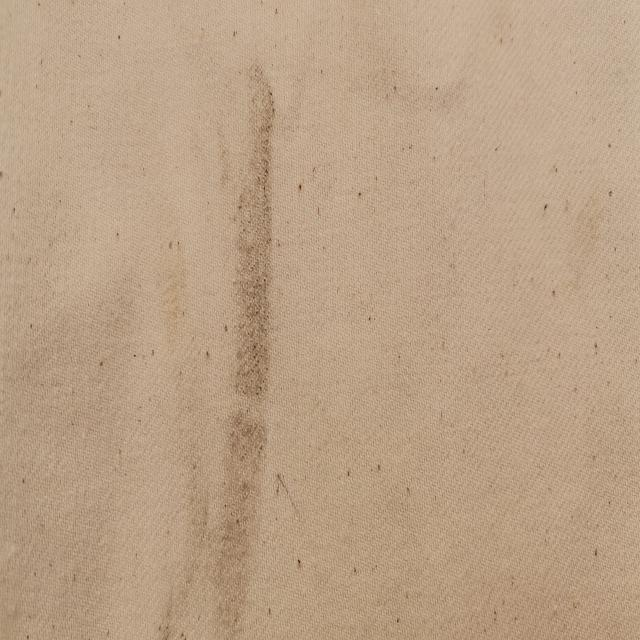taaaches: (192, 39, 304, 629), (152, 598, 179, 640)
